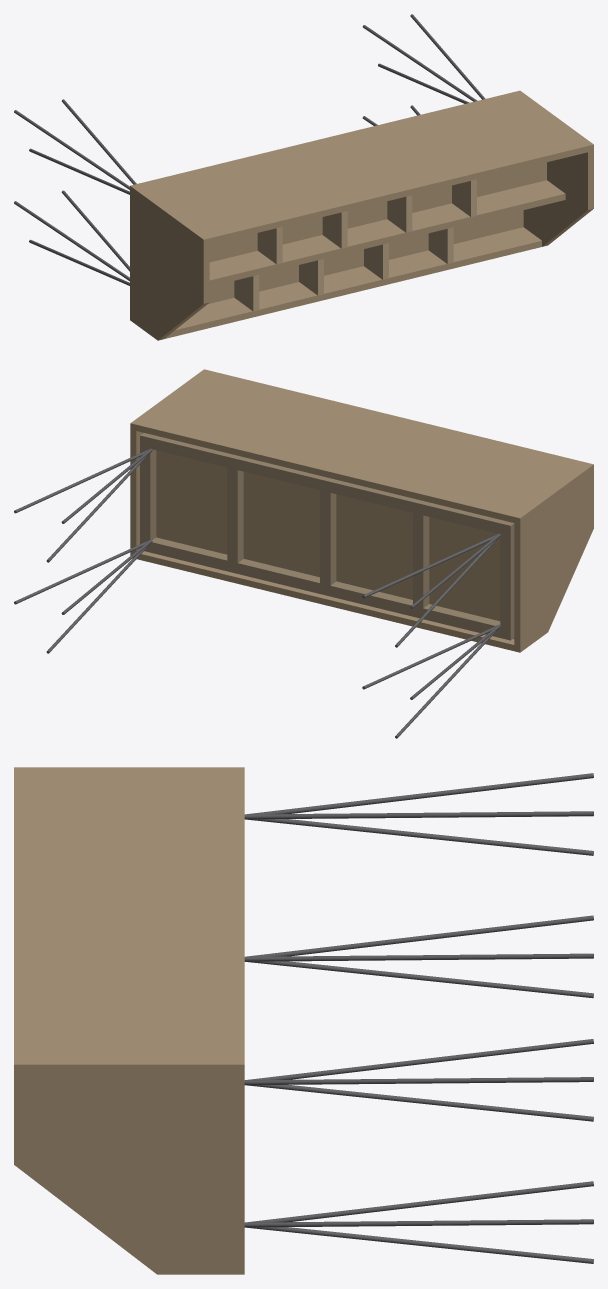
Rendered from vinyl_record_storage.glb.
3 renders of one model, top to bottom at view 1: azimuth 30°, elevation 25°; view 2: azimuth 150°, elevation 25°; view 3: azimuth 270°, elevation 25°, orthographic. The views are drawn at different scales.
Visible parts, largest first — view 1: back, side_left, shelf_divider, front, back_shelf_bottom, side_right, bottom, leg_back_left, leg_front_left, leg_back_right, back_divider_3, back_divider_1 (+6 smaller); view 2: back, bottom, side_left, frame_front, frame_back, front, frame_left, frame_right, side_right, frame_cross_2, frame_cross_3, leg_back_right (+4 smaller); view 3: back, side_right, leg_back_left, leg_back_right, leg_front_right, leg_front_left, side_left.
Boxes of the visible parts, x1=… form: back: x1=136, y1=92, x2=587, y2=244; side_left: x1=130, y1=184, x2=209, y2=340; shelf_divider: x1=209, y1=180, x2=565, y2=286; front: x1=164, y1=227, x2=541, y2=338; back_shelf_bottom: x1=209, y1=162, x2=546, y2=262; side_right: x1=514, y1=90, x2=593, y2=246; bottom: x1=208, y1=210, x2=523, y2=303; leg_back_left: x1=14, y1=99, x2=136, y2=194; leg_front_left: x1=14, y1=190, x2=129, y2=285; leg_back_right: x1=362, y1=14, x2=485, y2=103; back_divider_3: x1=387, y1=195, x2=412, y2=232; back_divider_1: x1=257, y1=227, x2=282, y2=264; back: x1=136, y1=370, x2=587, y2=522; bottom: x1=142, y1=432, x2=514, y2=638; side_left: x1=514, y1=463, x2=593, y2=652; frame_front: x1=150, y1=537, x2=500, y2=637; frame_back: x1=150, y1=435, x2=503, y2=533; front: x1=137, y1=551, x2=514, y2=650; frame_left: x1=500, y1=520, x2=514, y2=640; frame_right: x1=140, y1=432, x2=156, y2=552; side_right: x1=130, y1=369, x2=209, y2=555; frame_cross_2: x1=320, y1=490, x2=336, y2=585; frame_cross_3: x1=227, y1=467, x2=243, y2=562; leg_back_right: x1=14, y1=448, x2=152, y2=562; back: x1=14, y1=771, x2=244, y2=1059; side_right: x1=14, y1=1060, x2=244, y2=1274; leg_back_left: x1=244, y1=773, x2=593, y2=855; leg_back_right: x1=244, y1=1039, x2=593, y2=1121; leg_front_right: x1=244, y1=1181, x2=593, y2=1263; leg_front_left: x1=244, y1=915, x2=593, y2=998; side_left: x1=14, y1=767, x2=244, y2=771.
Size of the model in its own units: 57.78 by 19.6 by 46.53.
